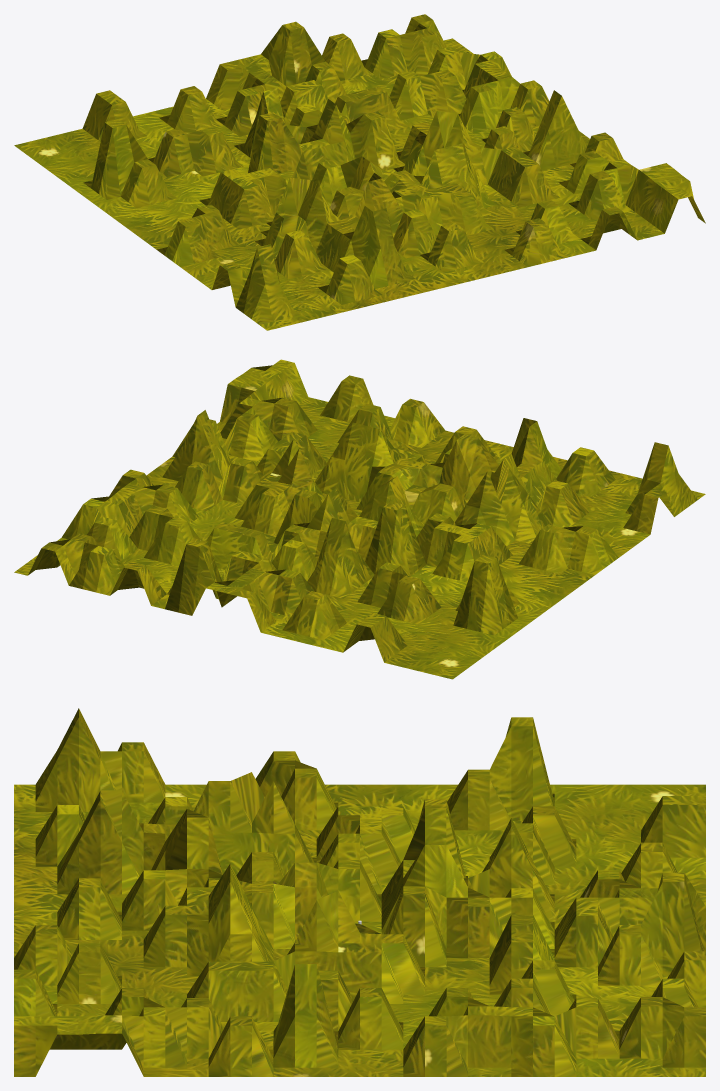
The model's file is grassy ground.glb.
3 renders of one model, top to bottom at view 1: azimuth 30°, elevation 25°; view 2: azimuth 150°, elevation 25°; view 3: azimuth 270°, elevation 25°, orthographic. The views are drawn at different scales.
Visible parts, largest first — view 1: Plane; view 2: Plane; view 3: Plane.
Boxes of the visible parts, x1,y1,x2,y2 form: Plane: (14, 14, 705, 330); Plane: (14, 359, 705, 679); Plane: (14, 708, 705, 1076).
Size of the model in its own units: 200 by 27.3 by 200.
Materials: 1 (1 with a texture image).
